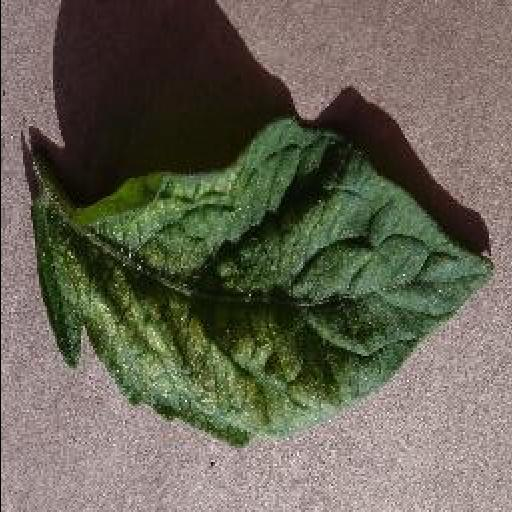disease_tomato: (34, 122, 496, 446)
